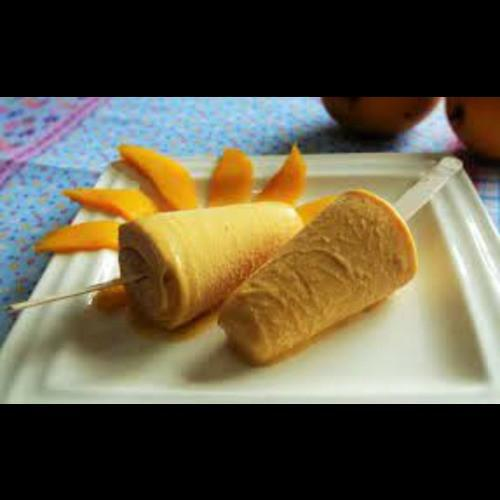Kulfi: (215, 190, 419, 367), (116, 201, 304, 328)
